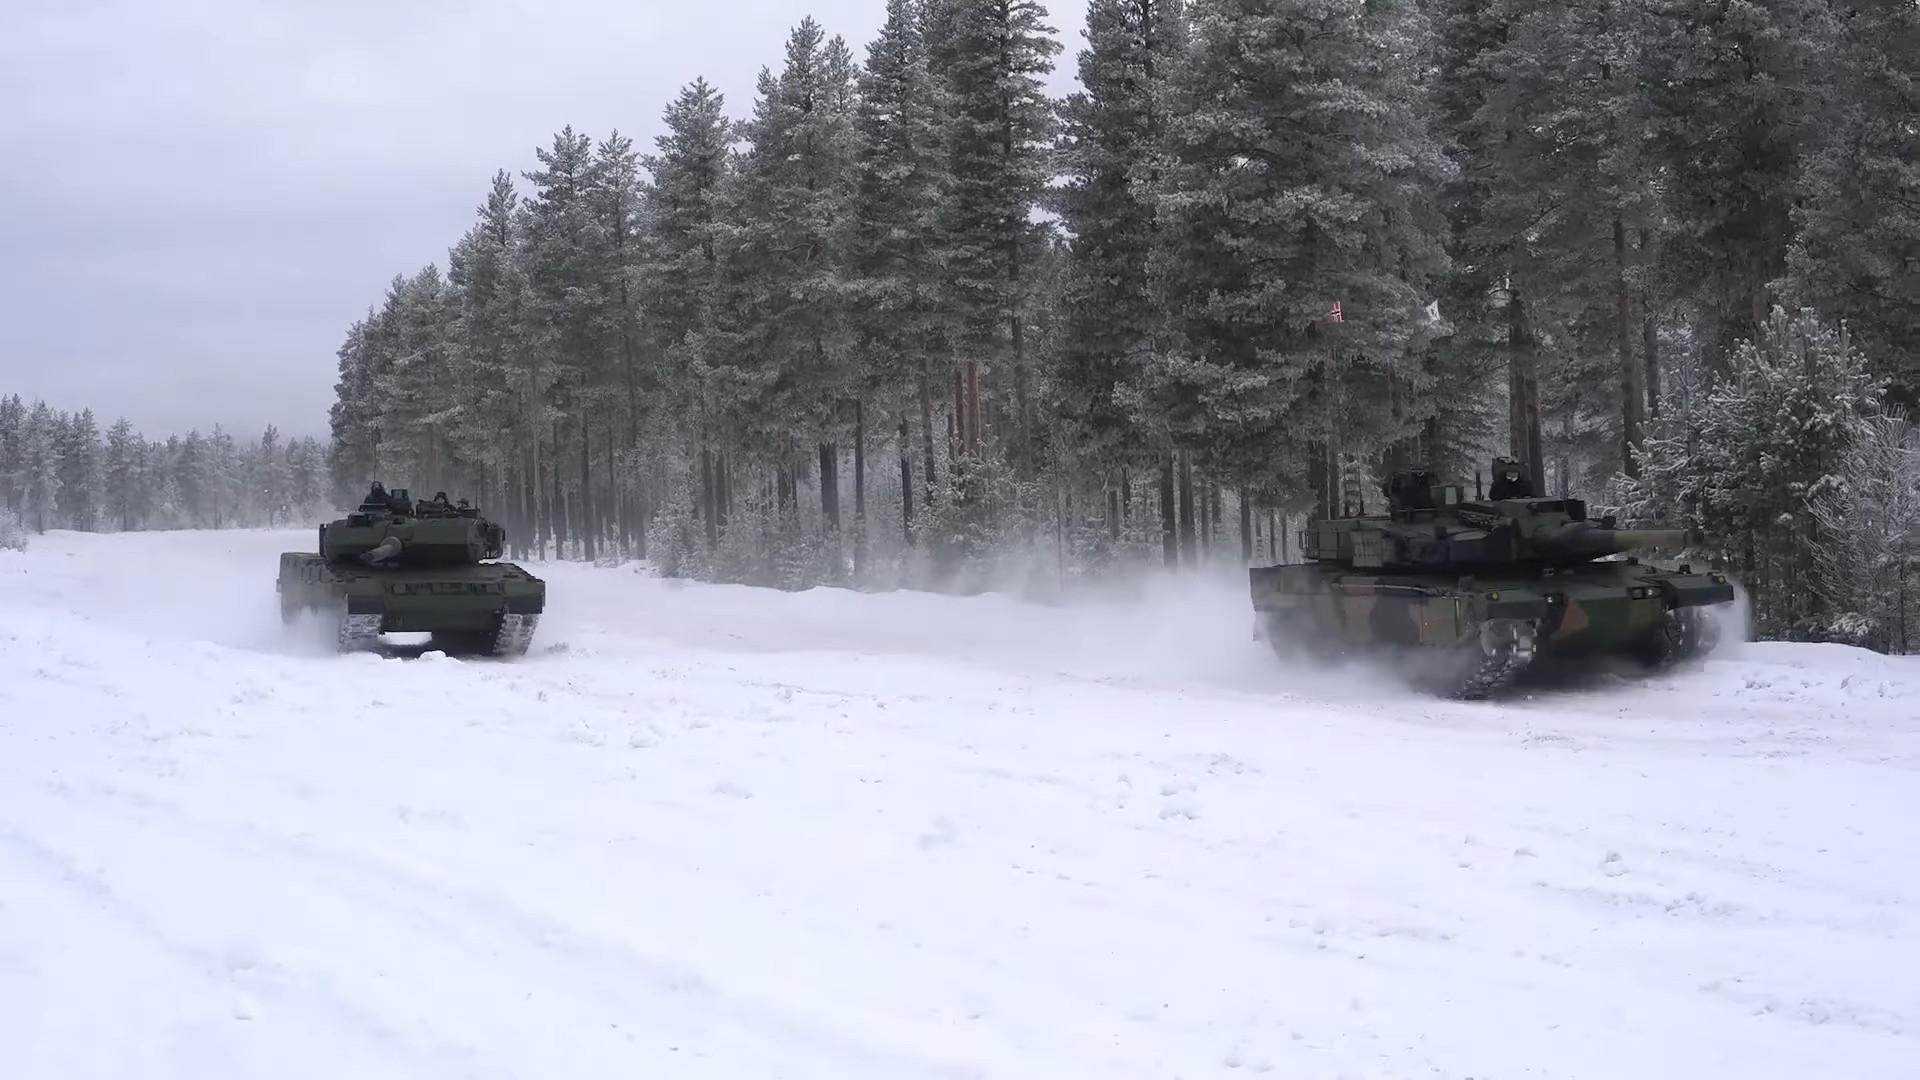tank: (1249, 459, 1737, 696), (277, 489, 545, 658)
